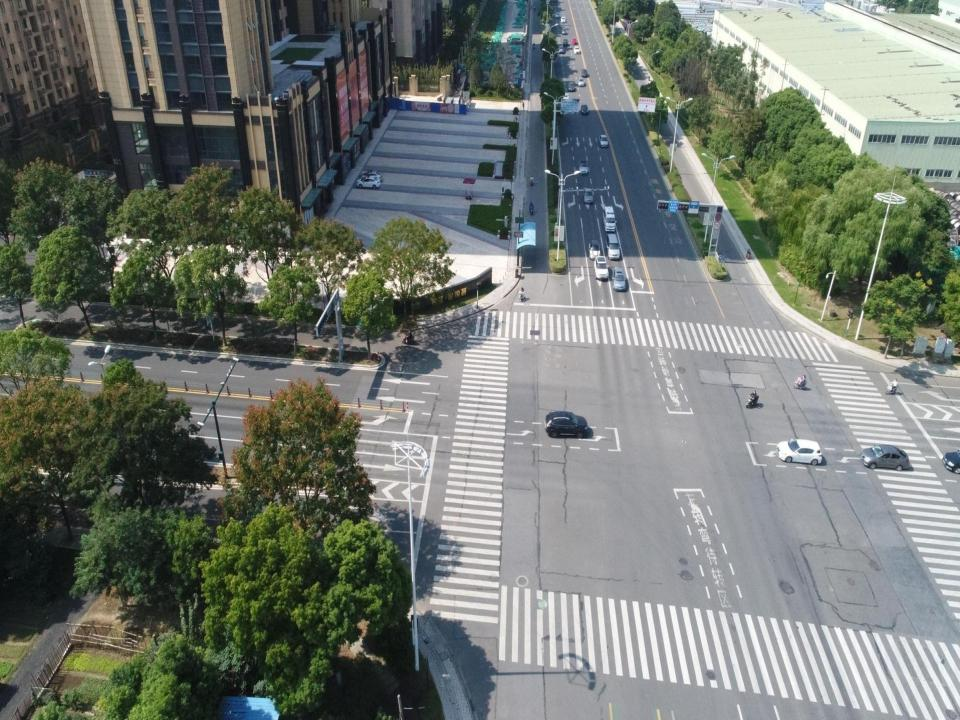car: (861, 445, 910, 473), (776, 438, 823, 466), (544, 409, 588, 437), (612, 264, 628, 290), (595, 255, 609, 280), (360, 168, 384, 182), (356, 176, 380, 189), (588, 237, 600, 259), (584, 185, 593, 206), (598, 133, 609, 147), (579, 160, 587, 173), (580, 104, 588, 116), (581, 68, 588, 78), (568, 82, 574, 92), (578, 77, 584, 87), (573, 46, 580, 54), (561, 26, 568, 34), (558, 45, 564, 54), (562, 37, 567, 45), (560, 16, 566, 22), (572, 37, 576, 45), (555, 11, 559, 17)
truck: (602, 204, 617, 231)
van: (606, 231, 620, 259)
